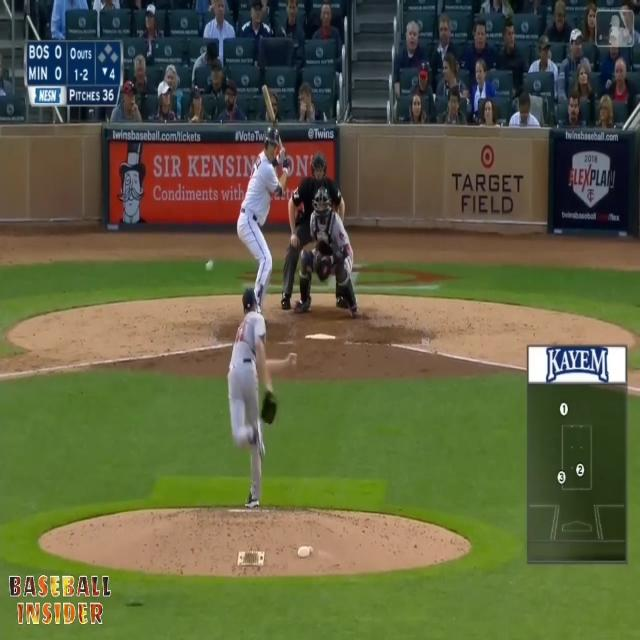baseball: (206, 260, 213, 270)
